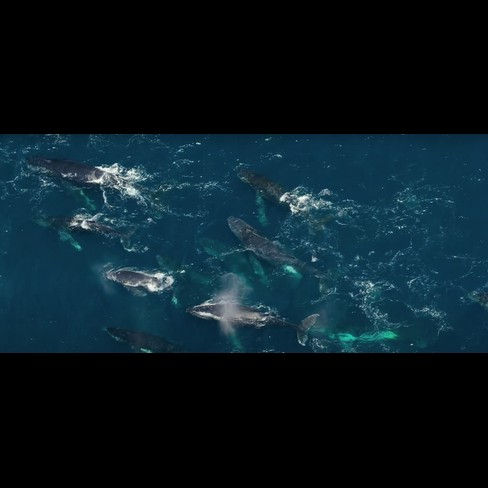hump: (225, 215, 344, 296), (187, 291, 322, 344), (234, 162, 331, 229), (24, 151, 144, 205), (32, 206, 148, 254), (83, 264, 182, 306), (99, 320, 192, 351)
